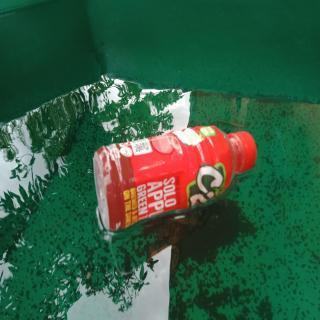bottle: (92, 124, 258, 235)
